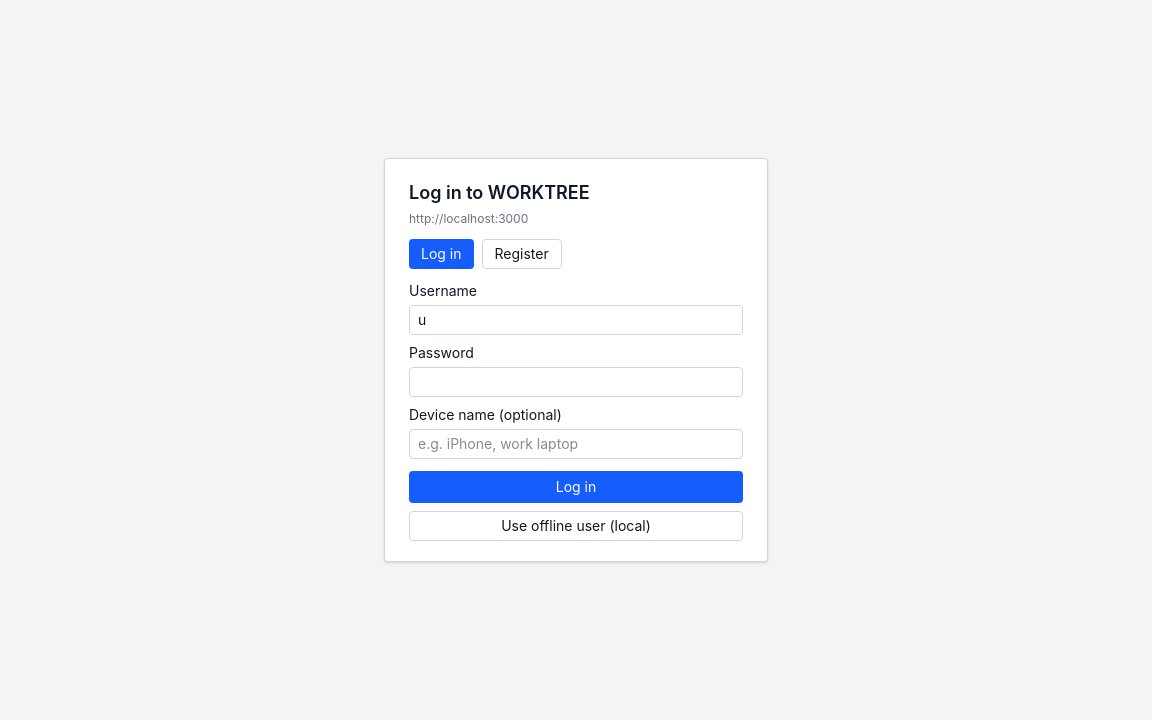
Test: App auth gate › adopts the authenticated username when logging in as someone else (regression)
Replace the text in the field with test id "auth-username" with "t": (576, 320) [409,305,743,335]
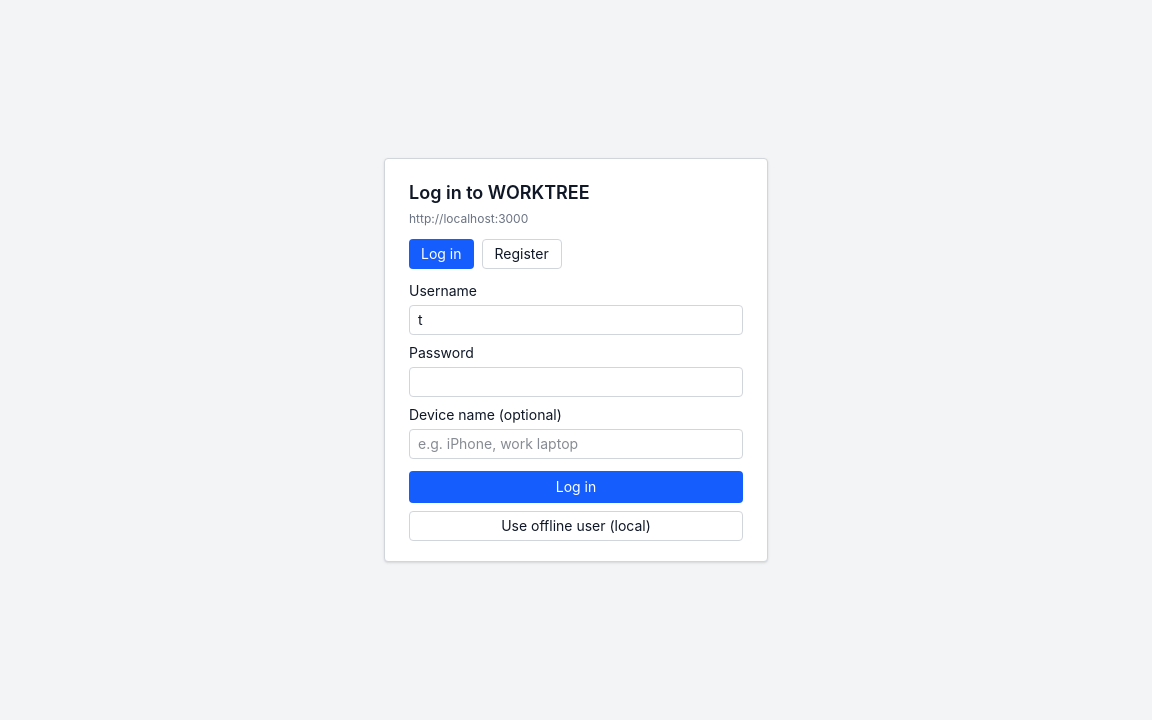
In the password field with test id "auth-password": (576, 382) [409,367,743,397], type "hunter2222"
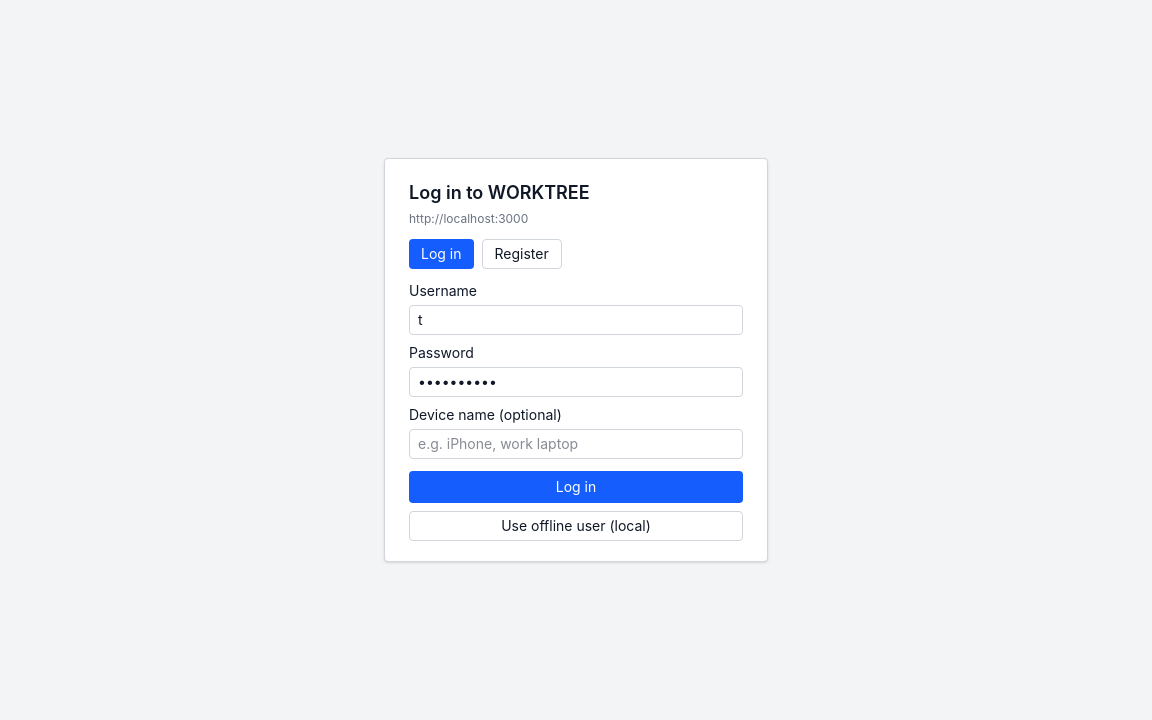
Click the button with test id "auth-submit": (576, 487) [409,471,743,503]
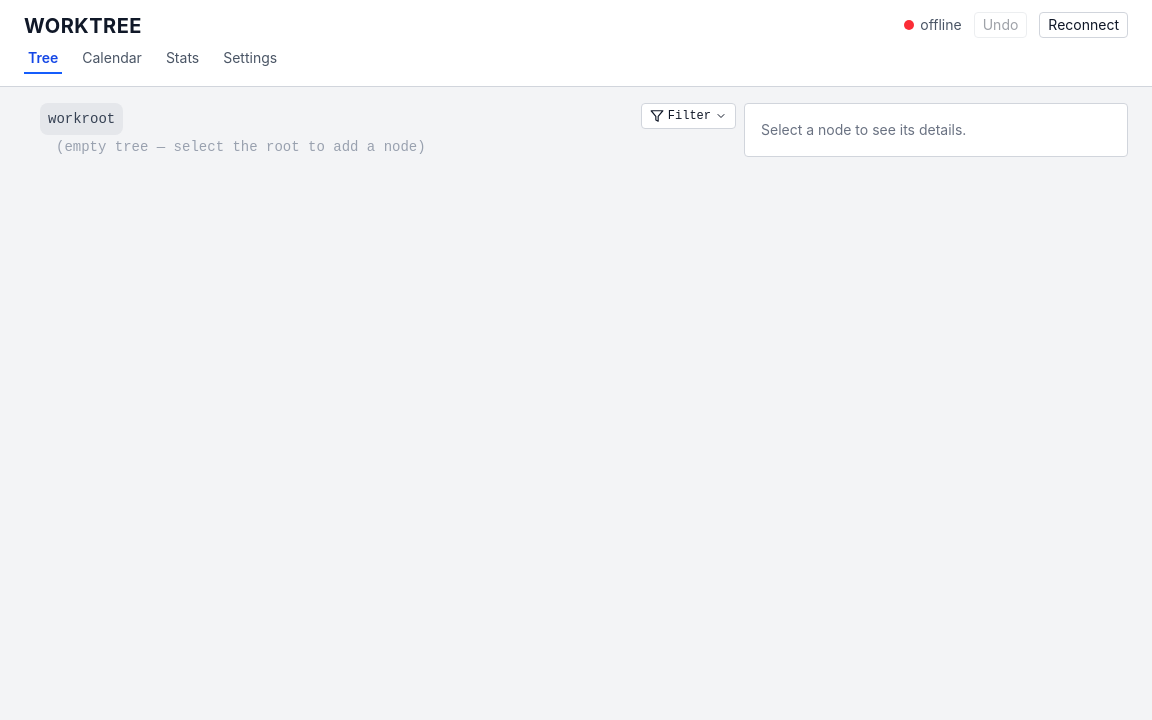
Result: the button with test id "auth-submit" is gone
